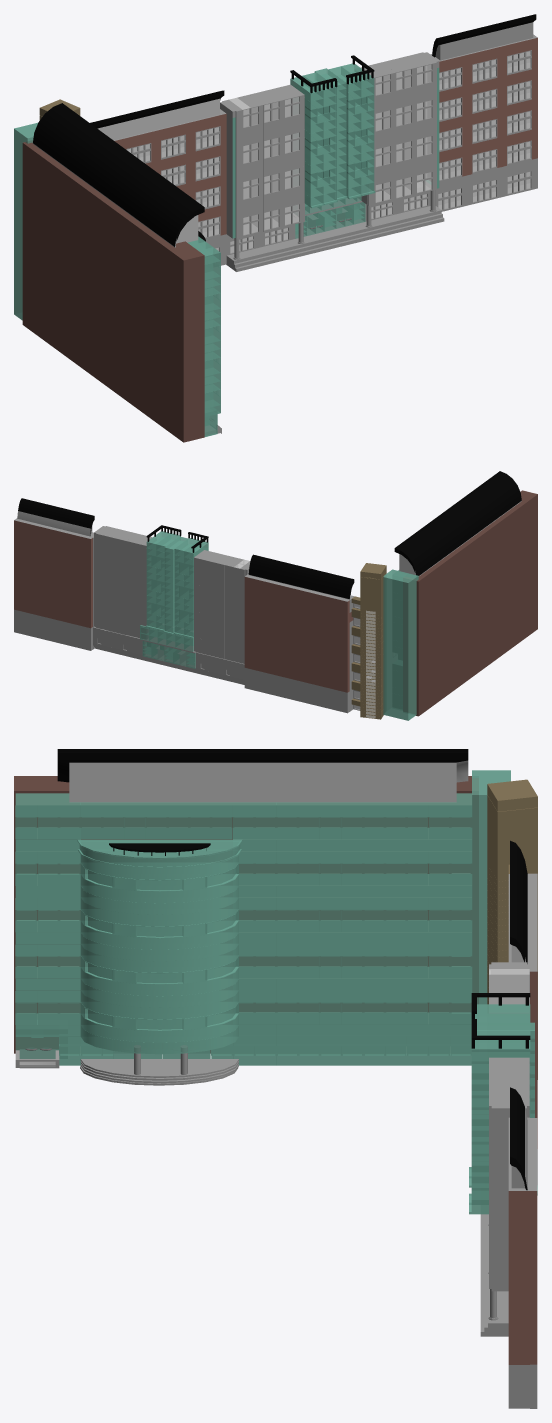
The model's file is 새천년관 모델링.fbx.
3 renders of one model, top to bottom at view 1: azimuth 30°, elevation 25°; view 2: azimuth 150°, elevation 25°; view 3: azimuth 270°, elevation 25°, orthographic. The views are drawn at different scales.
Parts seen in each view (by area): view 1: pCube84, pCube120, pCube122, pCube121, pCylinder20, pCube123, polySurface18, pCylinder19, pCube66, pCylinder21, polySurface258, polySurface46 (+7 smaller); view 2: pCube84, pCube123, pCube120, pCube121, pCube122, pCylinder20, polySurface258, pCube119, pCylinder19, polySurface18, pCylinder21, polySurface385 (+3 smaller); view 3: pCylinder20, pCube84, pCube120, polySurface291, pCube119, pCube121, polySurface256, polySurface260, polySurface258, polySurface18, polySurface268, polySurface272 (+42 smaller).
Boxes of the visible parts, x1,y1,x2,y2 form: pCube84: [22, 140, 204, 442]; pCube120: [426, 34, 537, 211]; pCube122: [218, 84, 304, 255]; pCube121: [358, 52, 439, 221]; pCylinder20: [32, 103, 204, 247]; pCube123: [114, 109, 226, 265]; polySurface18: [328, 63, 375, 199]; pCylinder19: [90, 90, 224, 140]; pCube66: [226, 200, 441, 263]; pCylinder21: [432, 14, 536, 60]; polySurface258: [14, 122, 37, 320]; polySurface46: [293, 157, 346, 197]; pCube84: [403, 490, 537, 716]; pCube123: [244, 574, 354, 713]; pCube120: [14, 518, 94, 650]; pCube121: [93, 526, 152, 654]; pCube122: [194, 550, 250, 679]; pCylinder20: [394, 471, 521, 576]; polySurface258: [383, 569, 418, 720]; pCube119: [360, 563, 386, 719]; pCylinder19: [248, 554, 354, 599]; polySurface18: [145, 531, 180, 631]; pCylinder21: [17, 498, 94, 536]; polySurface385: [351, 596, 360, 706]; pCylinder20: [57, 749, 468, 802]; pCube84: [14, 776, 478, 1053]; pCube120: [508, 1117, 537, 1408]; polySurface291: [233, 1036, 471, 1065]; pCube119: [487, 779, 537, 1079]; pCube121: [489, 1057, 529, 1291]; polySurface256: [239, 1012, 471, 1036]; polySurface260: [77, 839, 242, 879]; polySurface258: [450, 770, 510, 1004]; polySurface18: [469, 1031, 530, 1214]; polySurface268: [80, 944, 238, 972]; polySurface272: [80, 990, 238, 1019].
Bounding box in the file's own units: 21.07 × 8.3 × 12.6.
